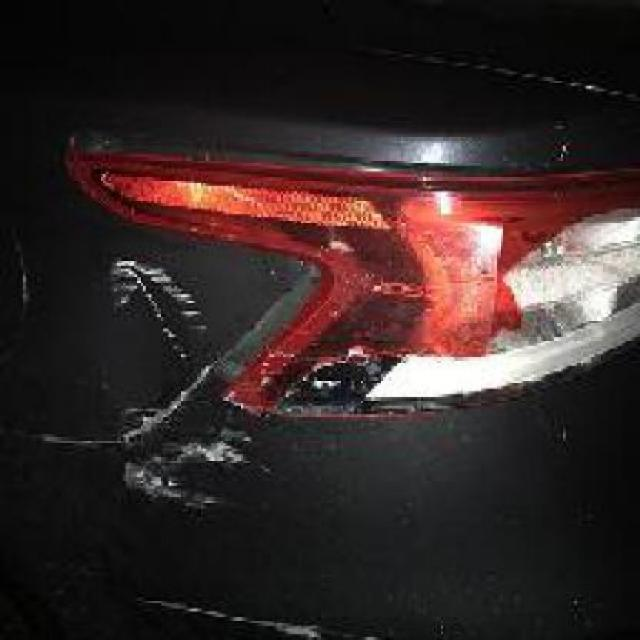damaged-tail-light: (100, 146, 637, 414)
dent-or-scratch: (92, 249, 245, 517)
